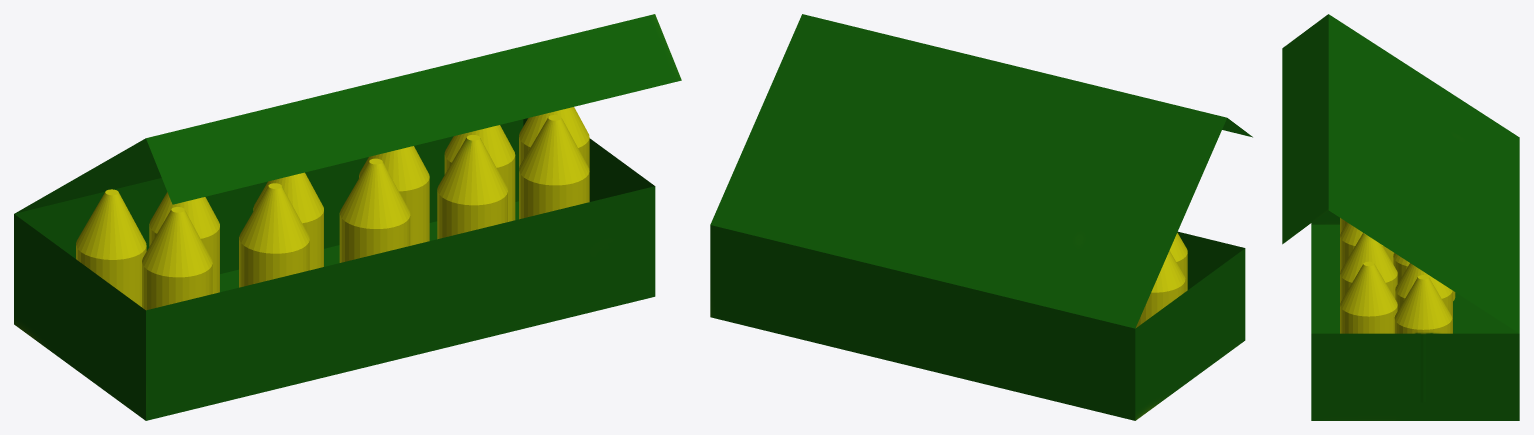
The model's file is A_Municion.obj.
The picture shows the model from 3 angles, left to right: view 1: azimuth 30°, elevation 25°; view 2: azimuth 150°, elevation 25°; view 3: azimuth 270°, elevation 25°; orthographic projection. The views are drawn at different scales.
Visible parts, largest first — view 1: Cilindro.007; view 2: Cilindro.007; view 3: Cilindro.007.
Part boxes in pixels (x1,y1,x2,y2): Cilindro.007: (14, 14, 681, 420); Cilindro.007: (710, 14, 1252, 420); Cilindro.007: (1282, 14, 1519, 420).
Size of the model in its own units: 1 by 0.5 by 0.5.
